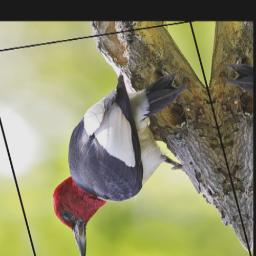Woodpecker: (25, 66, 226, 256)
